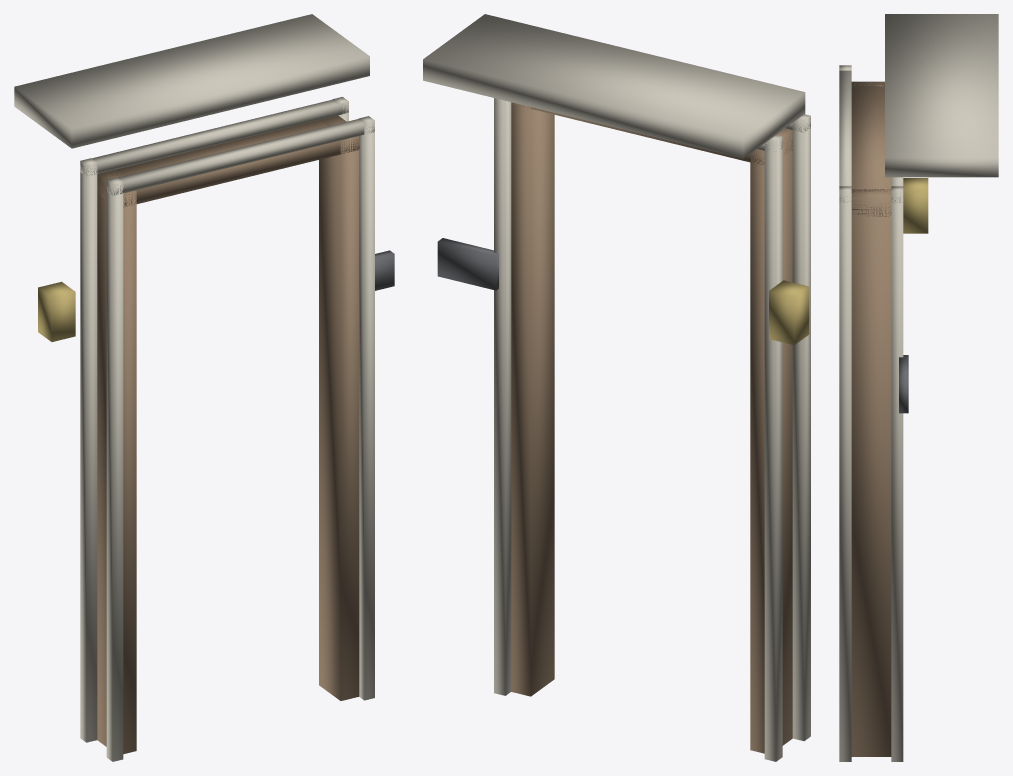
File: doorway_motel_w86_h220_d16.glb
The picture shows the model from 3 angles, left to right: view 1: azimuth 30°, elevation 25°; view 2: azimuth 150°, elevation 25°; view 3: azimuth 270°, elevation 25°; orthographic projection. The views are drawn at different scales.
Parts seen in each view (by area): view 1: world; view 2: world; view 3: world.
Boxes of the visible parts, x1,y1,x2,y2 form: world: [14, 14, 394, 761]; world: [423, 14, 810, 761]; world: [839, 14, 998, 761].
Size of the model in its own units: 1.44 by 2.5 by 0.5882.
